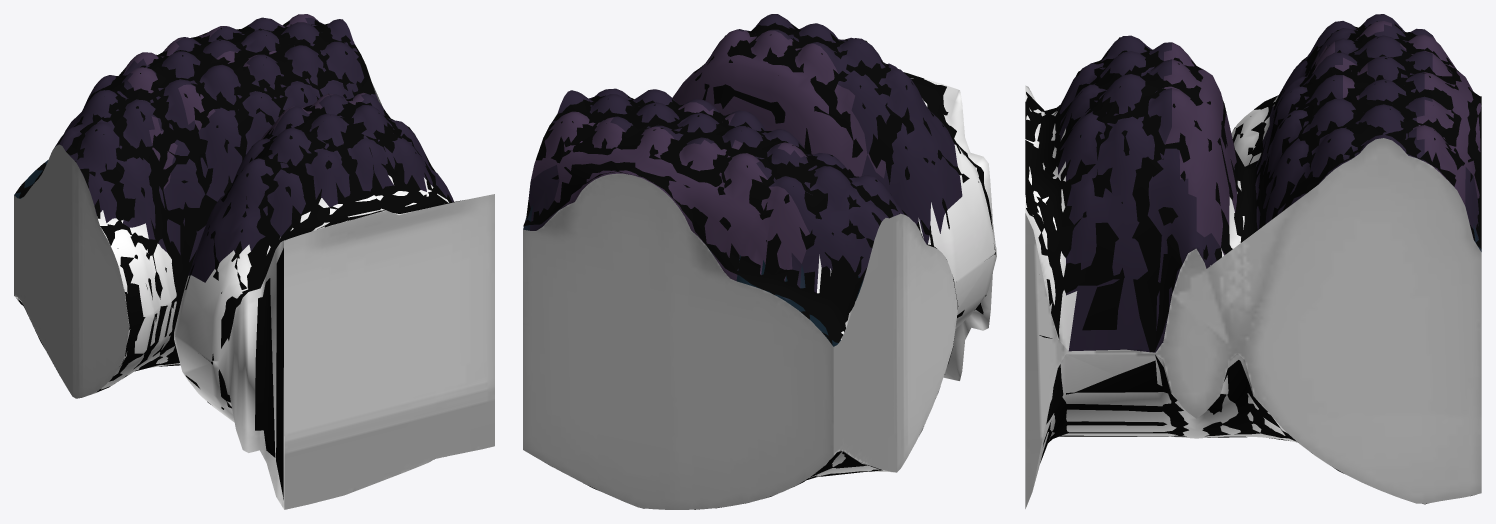
The model's file is newshn-43.glb.
3 views of the same model, side by side, from view 1: azimuth 30°, elevation 25°; view 2: azimuth 150°, elevation 25°; view 3: azimuth 270°, elevation 25° (orthographic). The views are drawn at different scales.
Parts seen in each view (by area): view 1: newshn-43, newshn-43_outline; view 2: newshn-43, newshn-43_outline; view 3: newshn-43, newshn-43_outline.
Part boxes in pixels (x1,y1,x2,y2): newshn-43: (14,14,494,509); newshn-43_outline: (15,20,462,499); newshn-43: (523,14,996,509); newshn-43_outline: (523,22,995,509); newshn-43: (1025,14,1481,508); newshn-43_outline: (1025,21,1481,504).
Bounding box in the file's own units: 2 × 2.29 × 2.33.
Materials: 10 (9 with a texture image).
